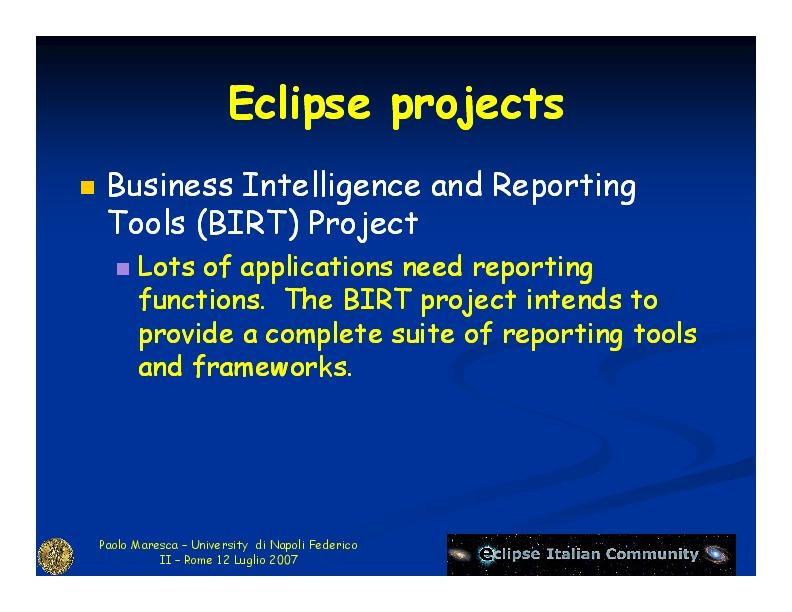paragraph: (68, 157, 712, 414)
subtitle: (93, 522, 757, 568)
title: (226, 66, 578, 138)
